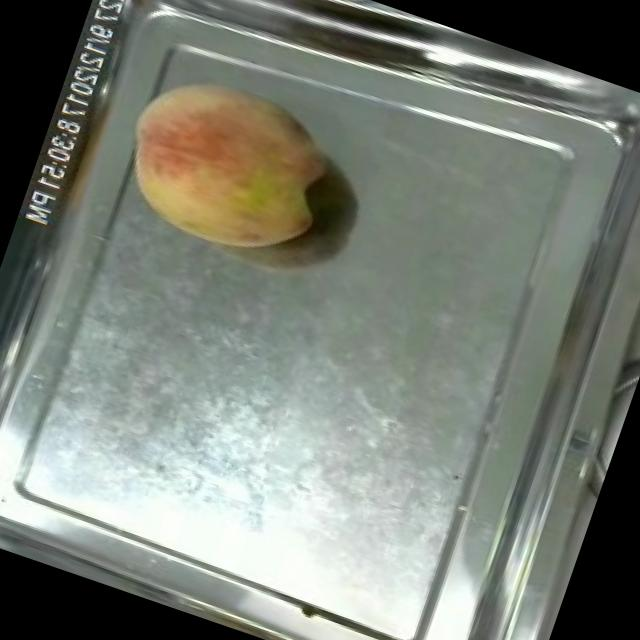Fruit: (95, 46, 356, 282)
